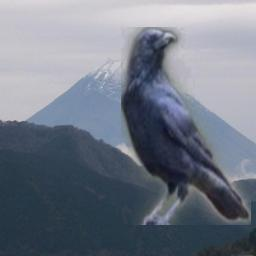Crow: (121, 27, 251, 225)
